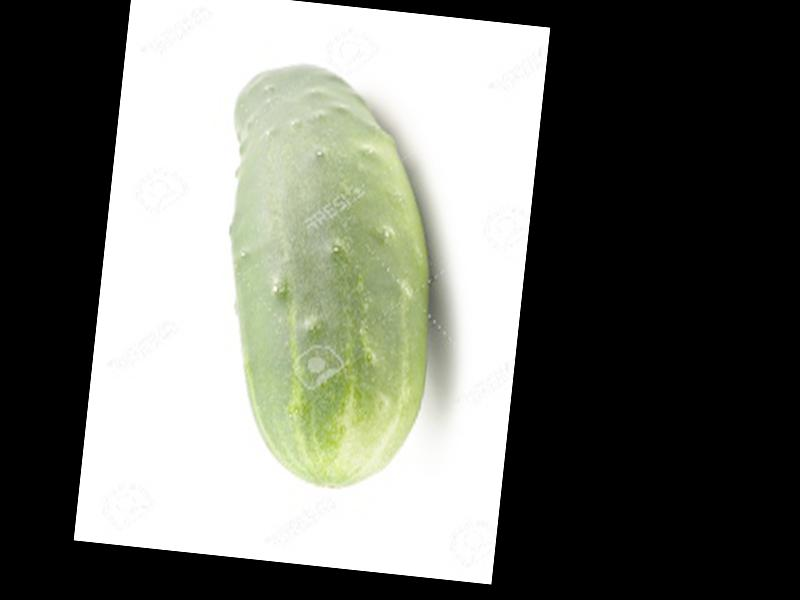Cucumber: (196, 57, 459, 497)
